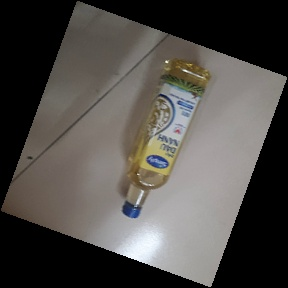Simply: (120, 53, 213, 220)
